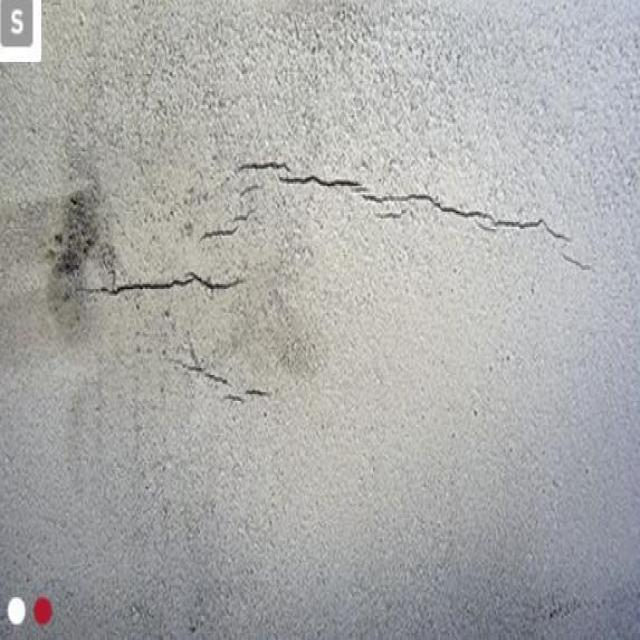Crack: (197, 157, 593, 276), (71, 268, 245, 299), (182, 359, 272, 408)
